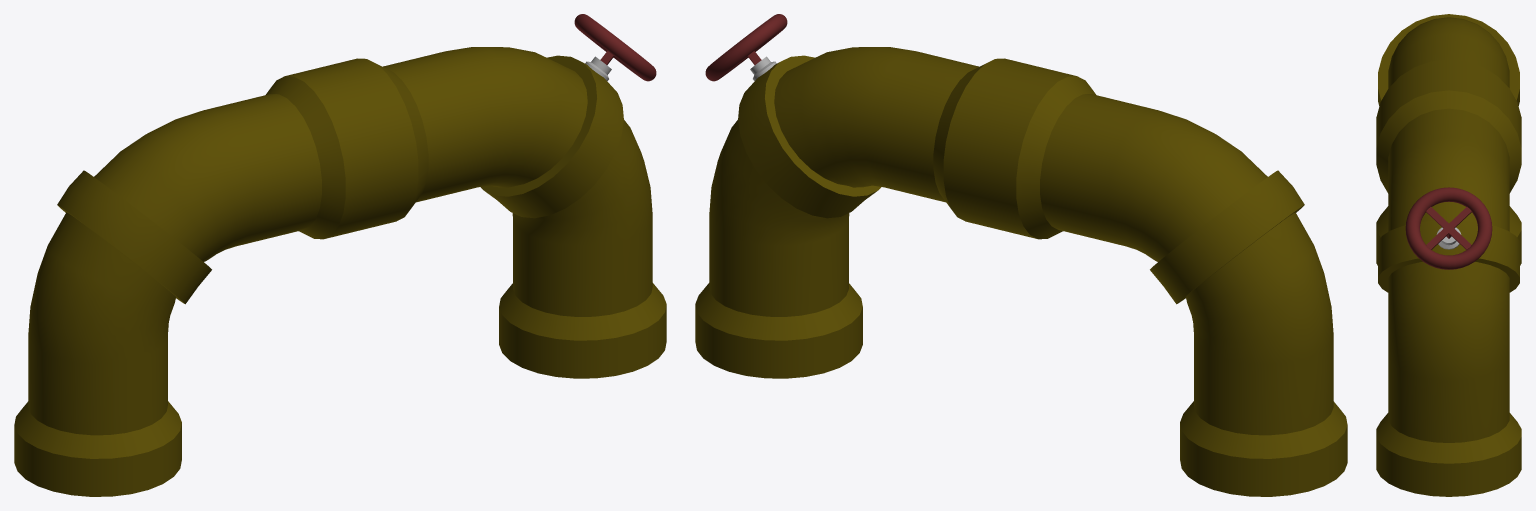
File: LargePipeDouble.fbx
3 renders of one model, left to right at view 1: azimuth 30°, elevation 25°; view 2: azimuth 150°, elevation 25°; view 3: azimuth 270°, elevation 25°, orthographic. The views are drawn at different scales.
Visible parts, largest first — view 1: Pipe3, Pipe, Valve; view 2: Pipe3, Pipe, Valve; view 3: Pipe, Pipe3, Valve, ValveConnect.
Part boxes in pixels (left/top/right/bottom): Pipe3: left=14, top=67, right=381, bottom=496; Pipe: left=322, top=47, right=666, bottom=378; Valve: left=574, top=14, right=656, bottom=81; Pipe3: left=980, top=67, right=1347, bottom=496; Pipe: left=695, top=47, right=1039, bottom=378; Valve: left=705, top=14, right=787, bottom=81; Pipe: left=1376, top=75, right=1521, bottom=496; Pipe3: left=1376, top=14, right=1521, bottom=265; Valve: left=1405, top=187, right=1492, bottom=269; ValveConnect: left=1436, top=227, right=1461, bottom=249.
Bounding box in the file's own units: 10.4 × 5.2 × 2.38.
